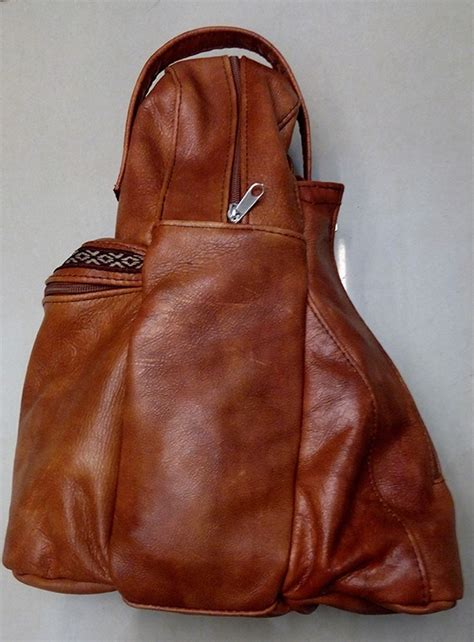cuero: (3, 25, 466, 618)
